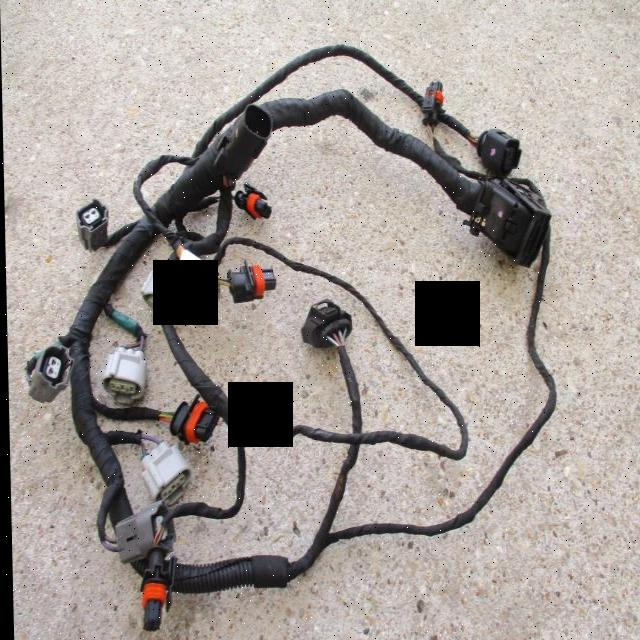cable: (32, 23, 588, 607), (327, 449, 357, 482)
connector: (96, 501, 179, 575), (129, 434, 194, 508), (159, 391, 222, 455), (466, 124, 526, 184), (98, 341, 146, 405), (297, 297, 353, 351), (138, 547, 169, 630), (25, 342, 65, 402), (228, 179, 277, 226), (224, 259, 274, 303), (73, 198, 110, 252), (159, 266, 189, 317), (136, 262, 163, 307), (422, 82, 444, 125)
